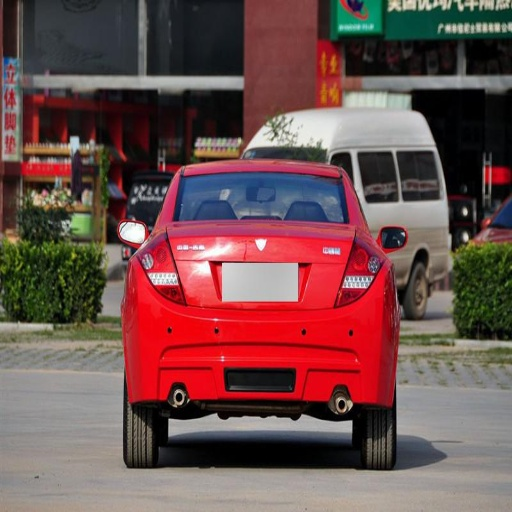back_bumper: (133, 262, 392, 400)
trunk: (145, 222, 359, 344)
